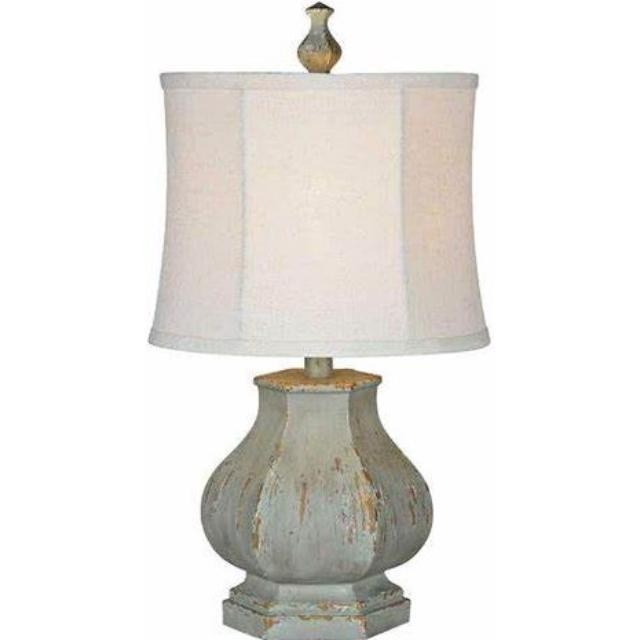lamp: (160, 4, 491, 640)
